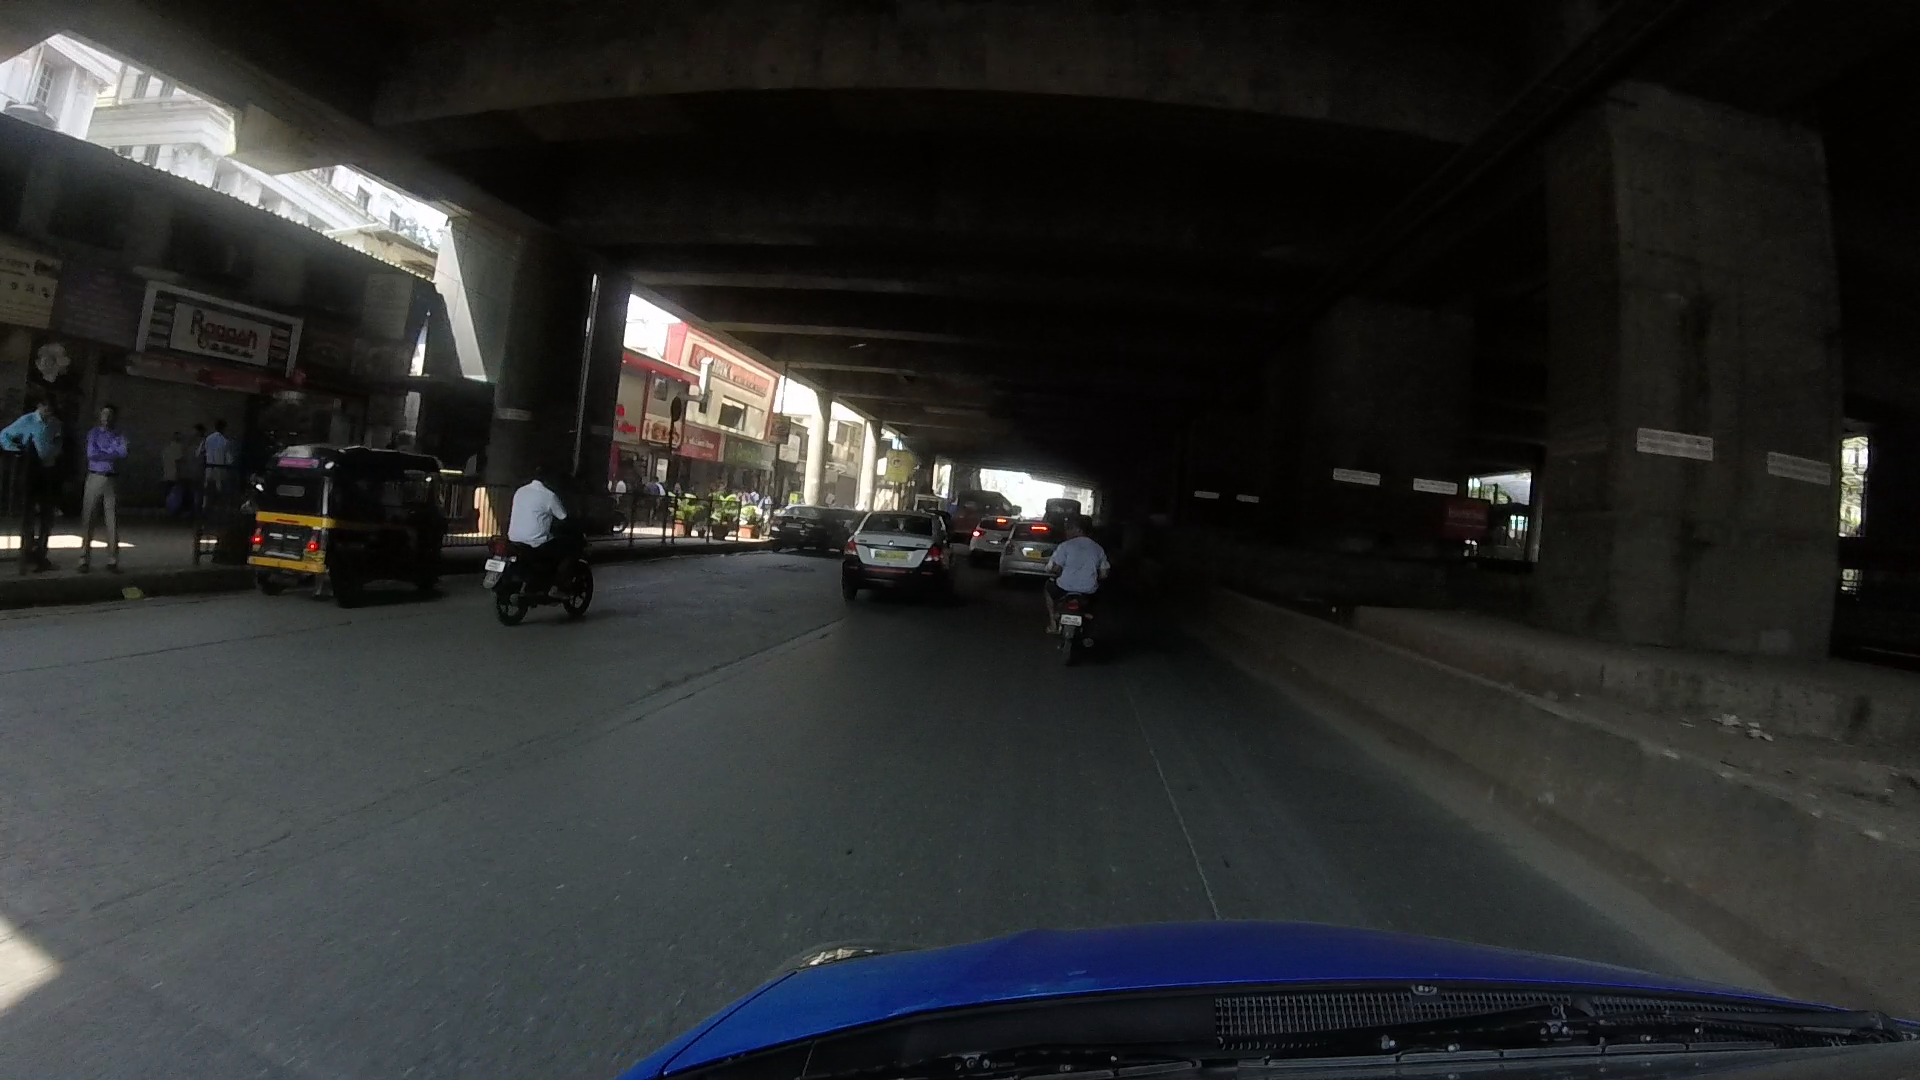bike/scooter: (493, 463, 584, 616), (1036, 510, 1108, 645)
car: (840, 498, 949, 589)
rickshaw: (252, 430, 443, 604)
